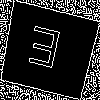E: (23, 25, 63, 78)
